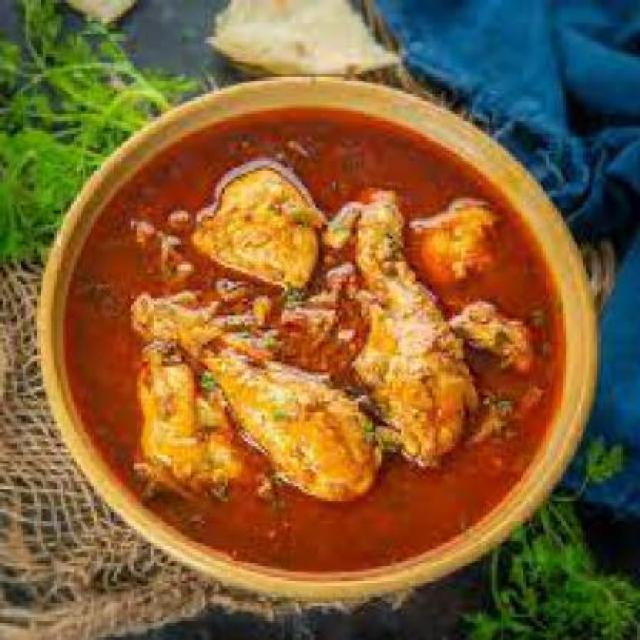CHICKEN CURRY: (57, 108, 572, 565)
